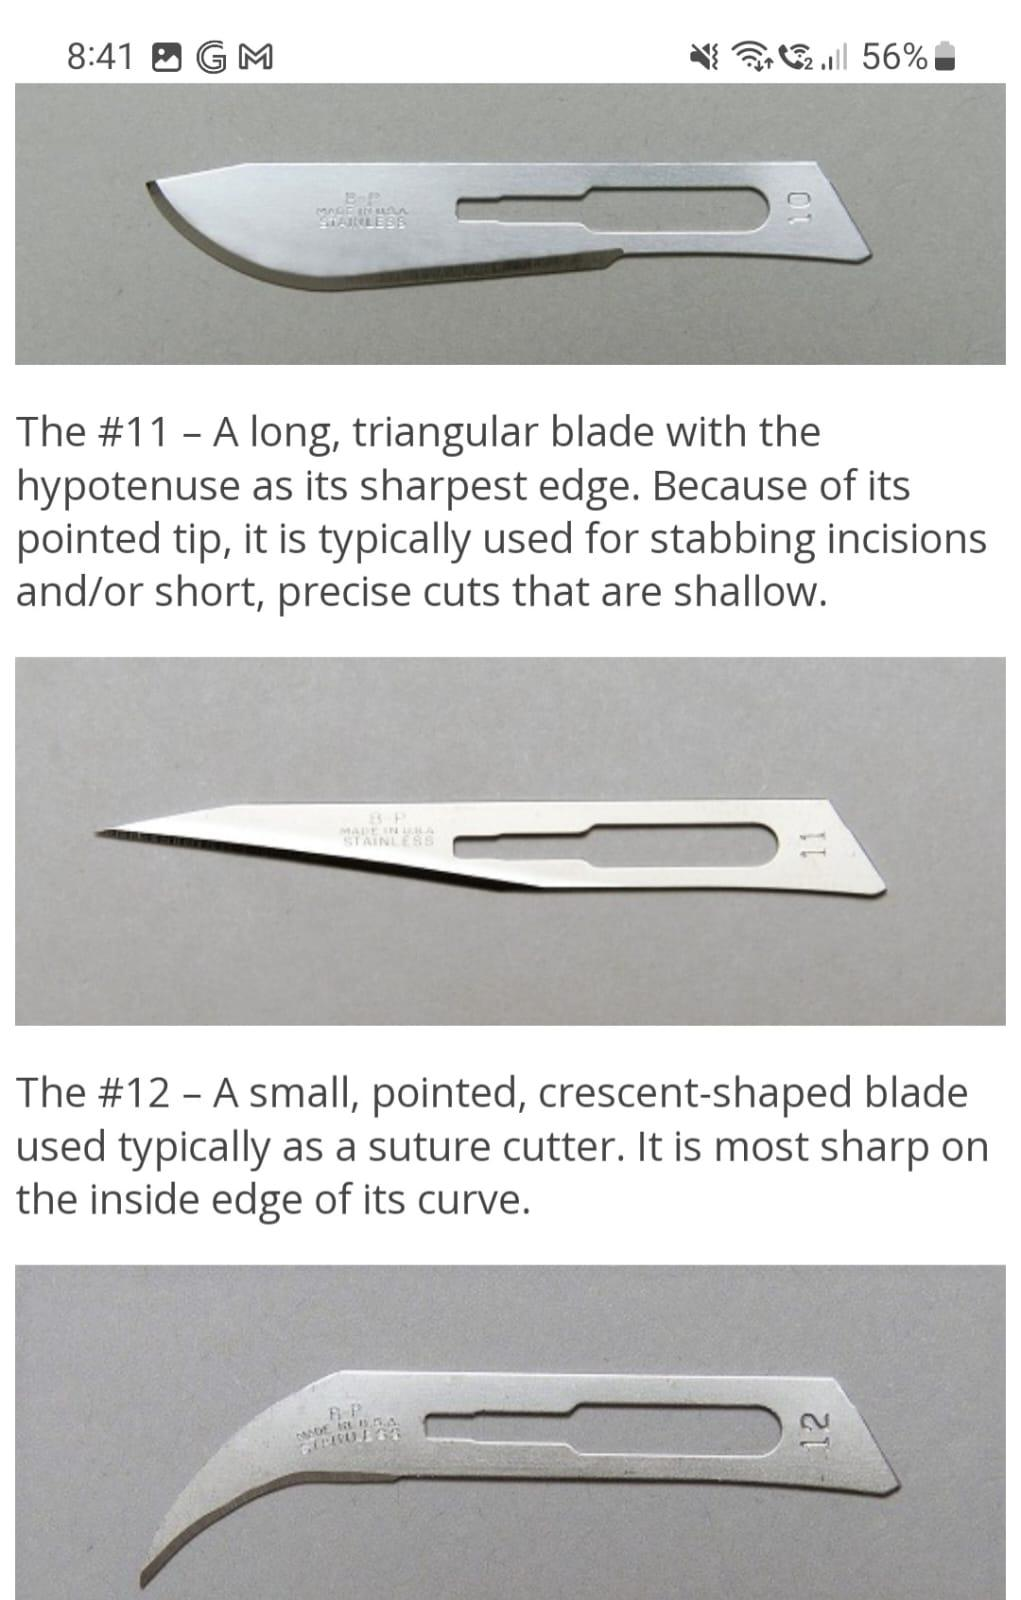Surgical blade: (125, 1348, 908, 1600), (80, 742, 905, 932), (143, 125, 895, 305)
